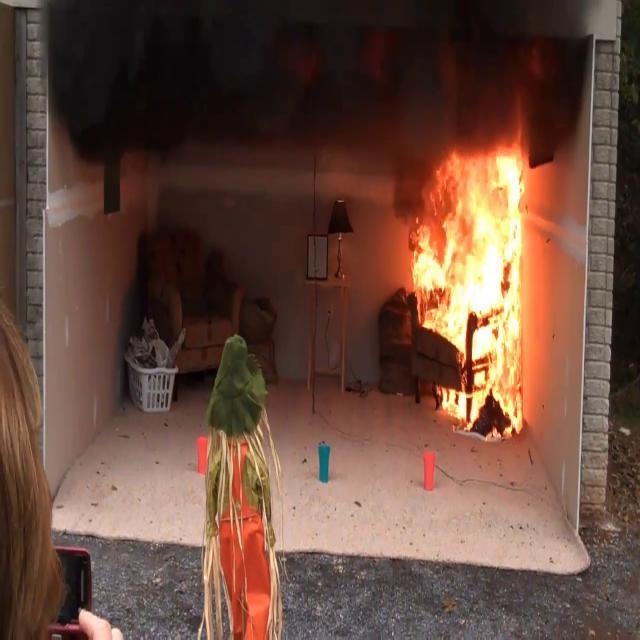Fire: (403, 142, 532, 432)
